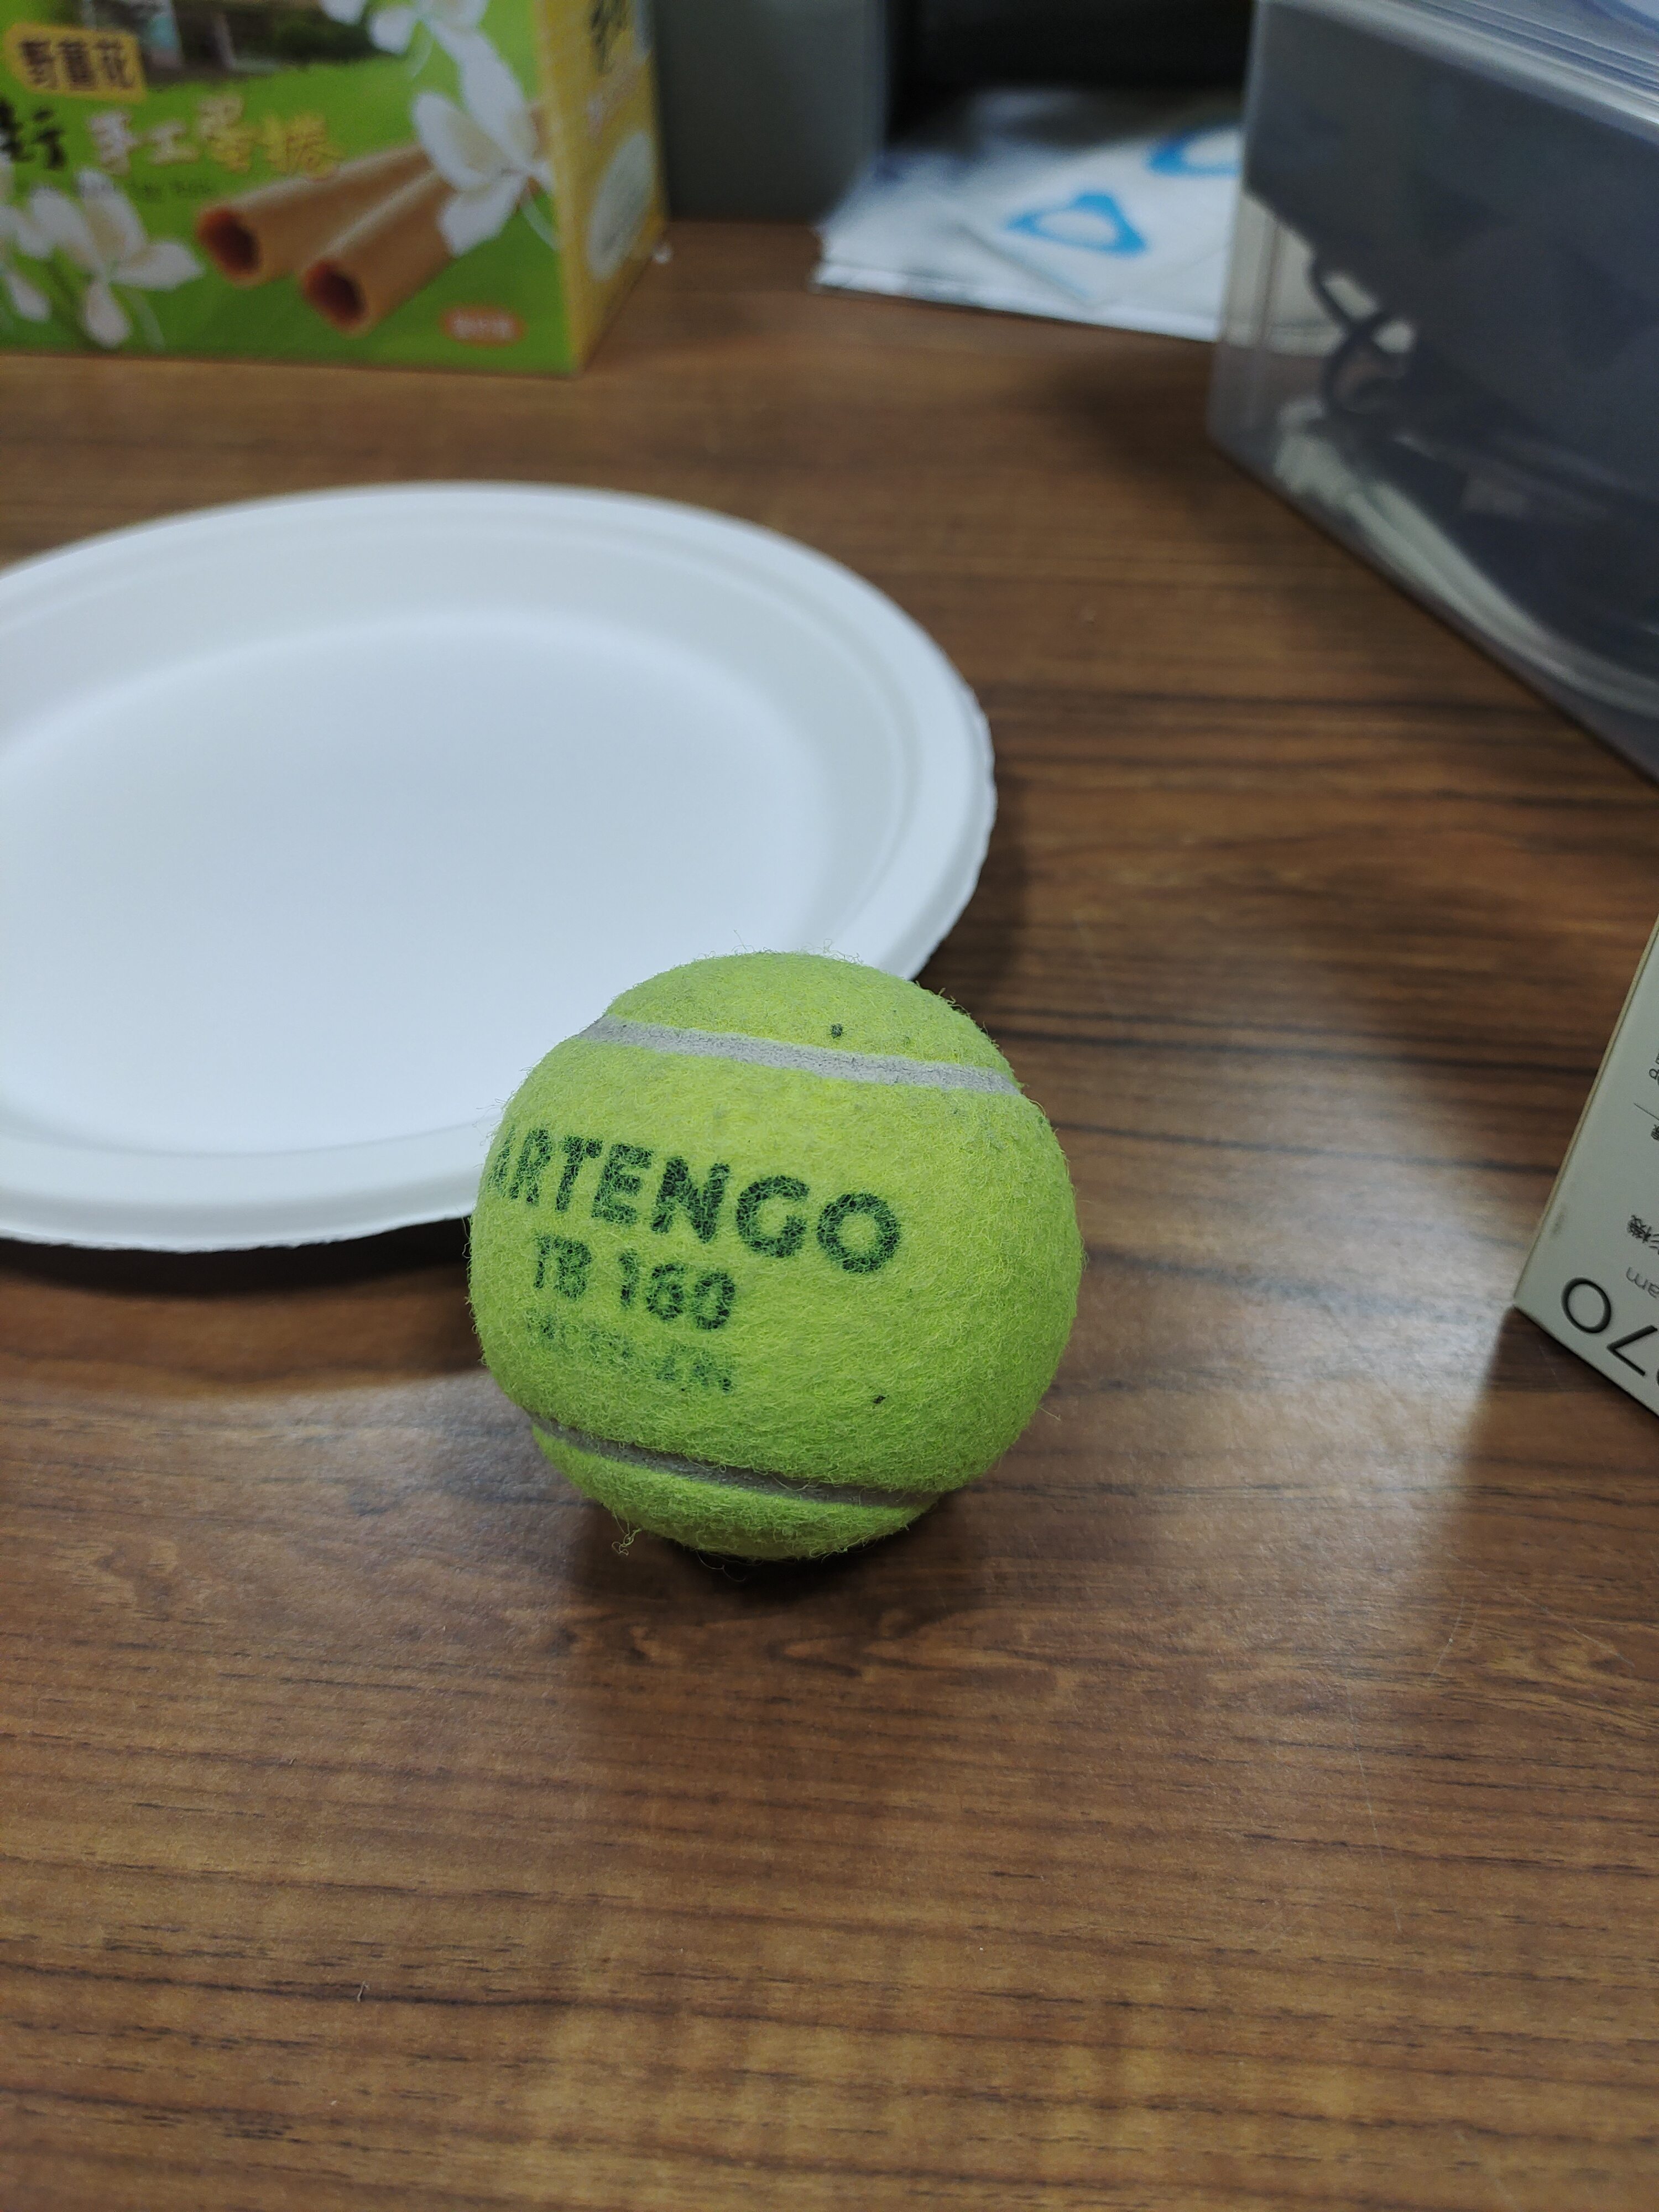tennis: (450, 942, 1105, 1573)
